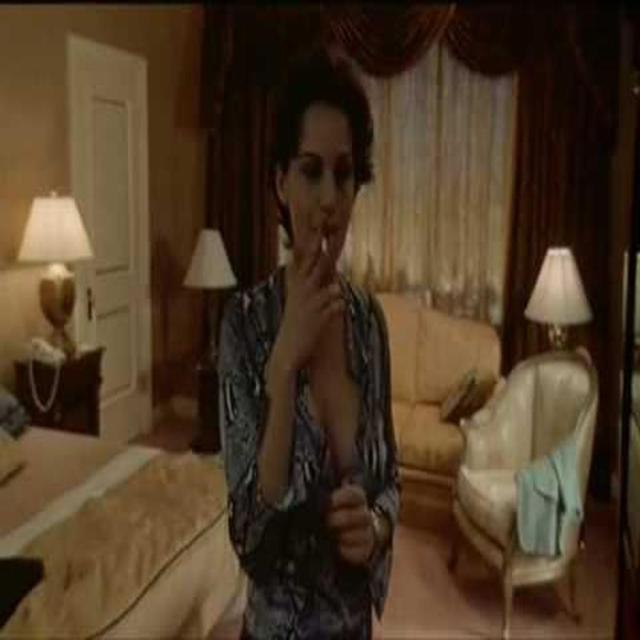smoking: (156, 45, 461, 607)
